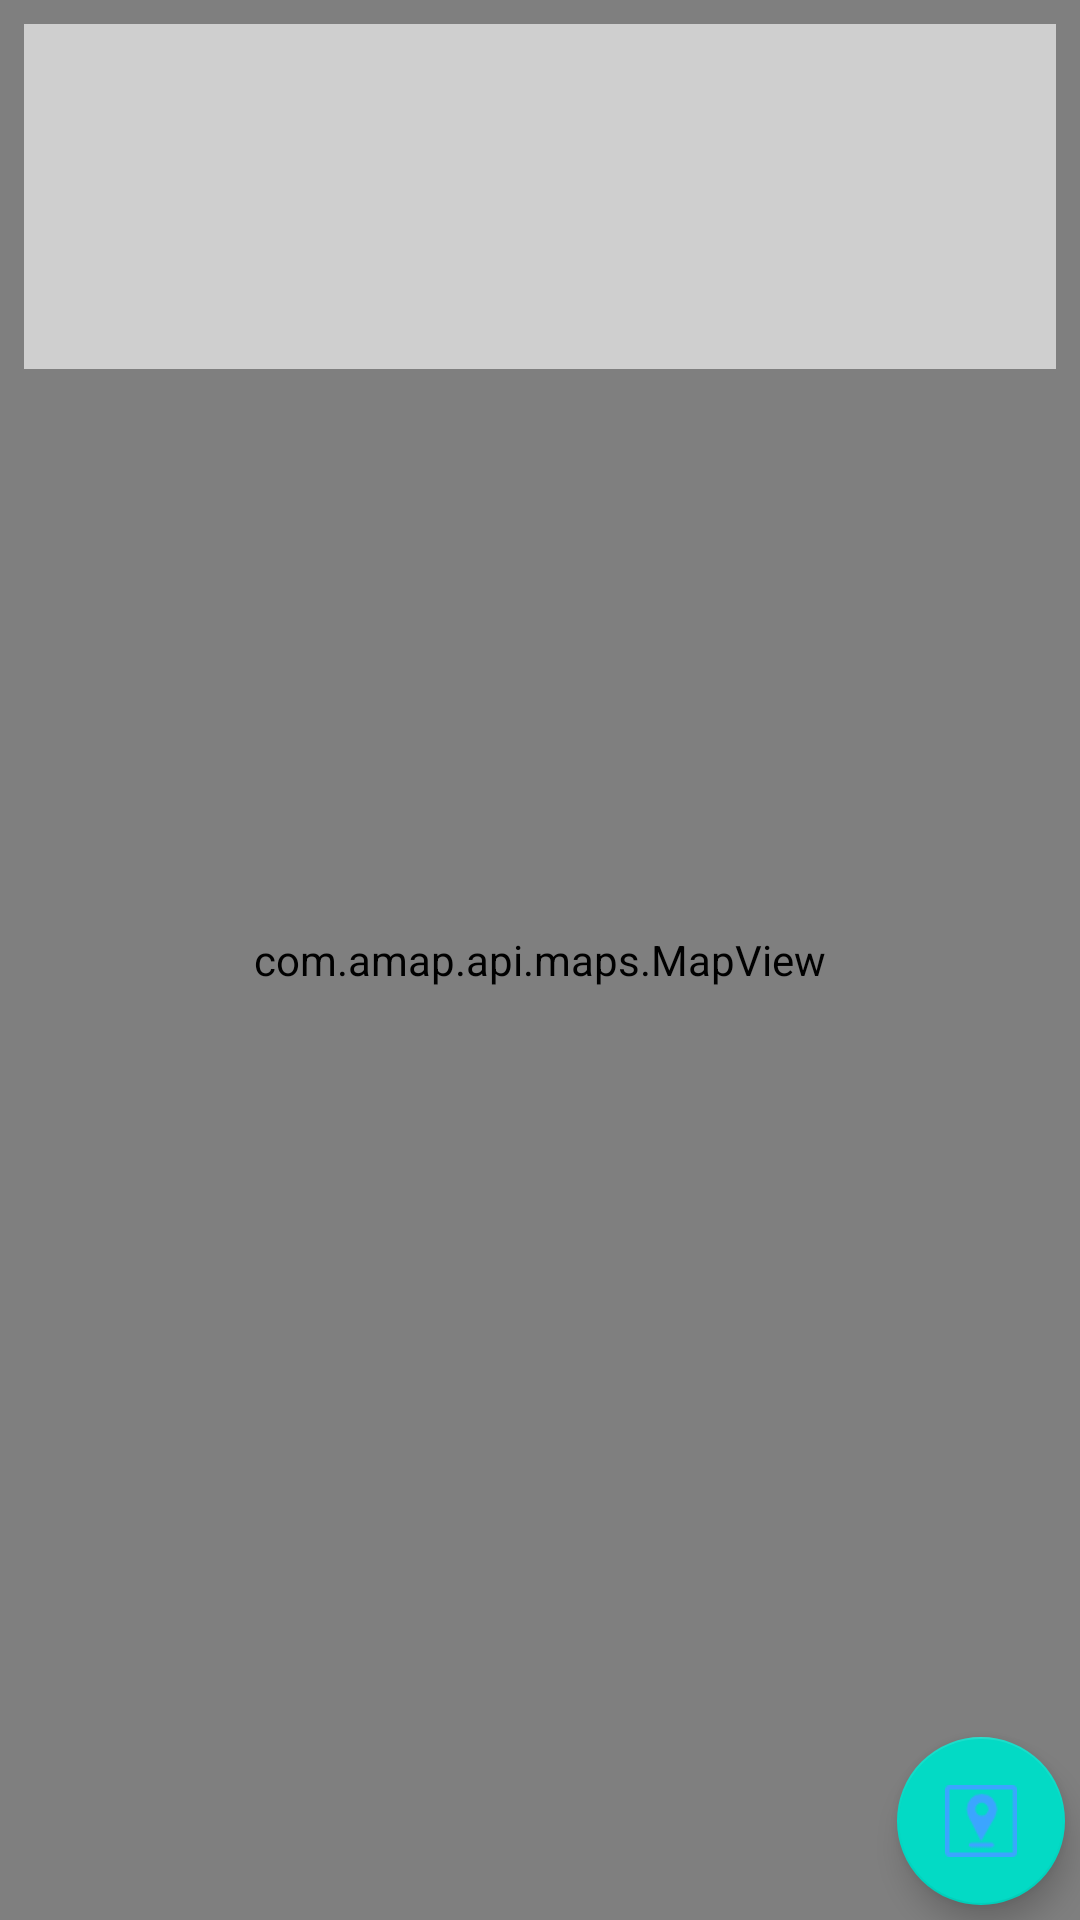

Locate icon controls on the screen. Image size 1080w x 1920h, boxes as {"x1": x1, "y1": y1, "x2": x2, "y2": y2}.
start location: {"x1": 897, "y1": 1737, "x2": 1065, "y2": 1905}
